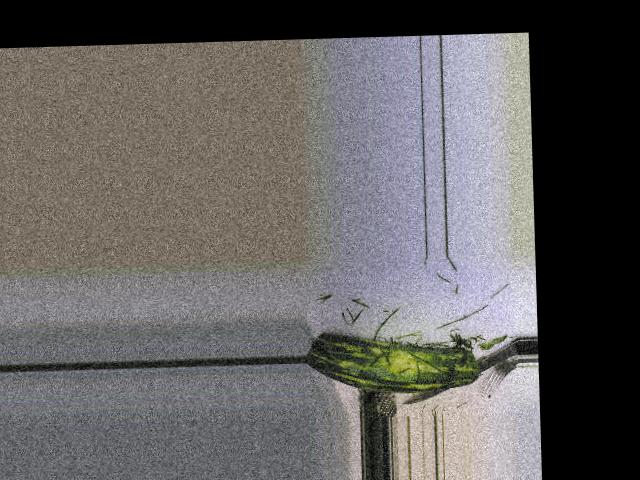cucumber: (307, 327, 480, 395)
